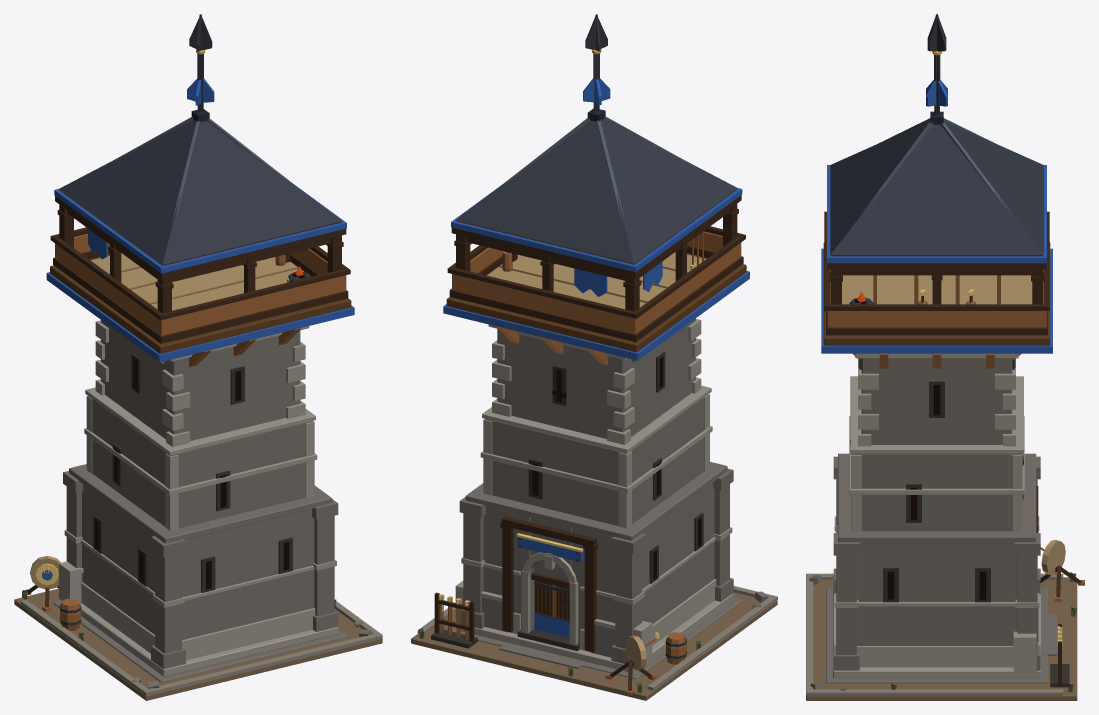
The picture shows the model from 3 angles, left to right: view 1: azimuth 30°, elevation 25°; view 2: azimuth 150°, elevation 25°; view 3: azimuth 270°, elevation 25°; orthographic projection. The views are drawn at different scales.
Parts seen in each view (by area): view 1: AT-主体, AT-team, AT-自发光; view 2: AT-主体, AT-team, AT-自发光; view 3: AT-主体, AT-team, AT-自发光.
Part boxes in pixels (x1,y1,x2,y2): AT-主体: [14, 14, 382, 700]; AT-team: [42, 78, 354, 580]; AT-自发光: [95, 266, 304, 589]; AT-主体: [411, 14, 777, 700]; AT-team: [443, 78, 749, 637]; AT-自发光: [532, 357, 701, 579]; AT-主体: [806, 14, 1084, 700]; AT-team: [821, 80, 1052, 353]; AT-自发光: [850, 291, 1023, 599].
Size of the model in its own units: 7.08 by 17.46 by 7.03.
Materials: 4 (2 with a texture image).
